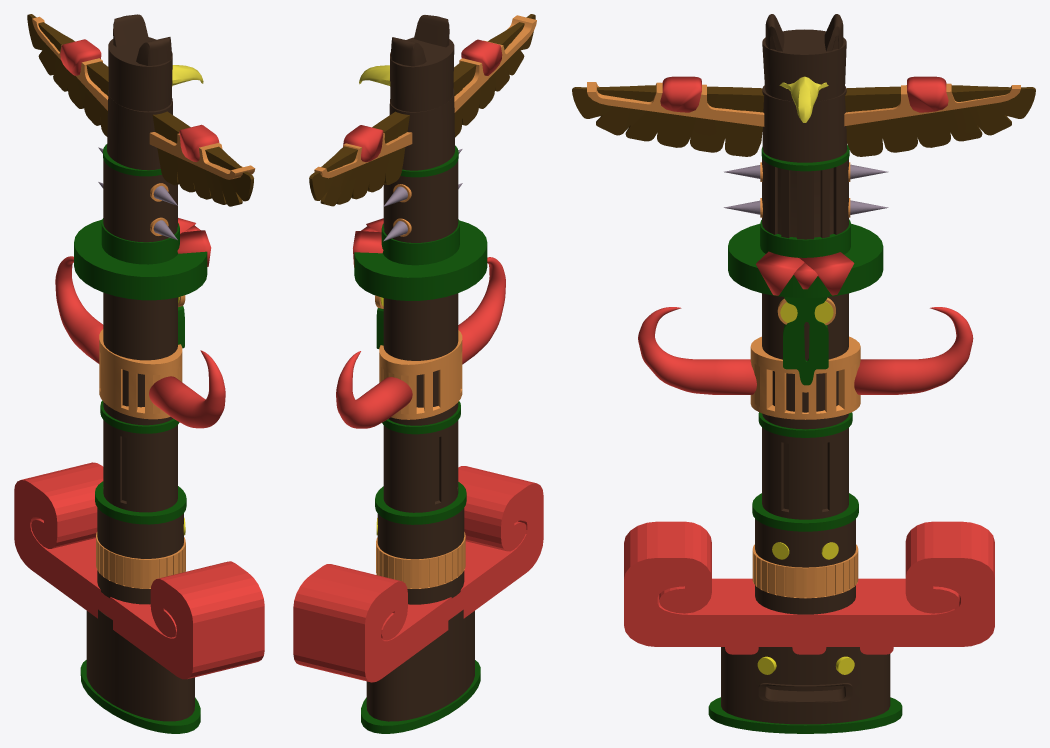
The model's file is tour_totem_lvl_2.fbx.
3 renders of one model, left to right at view 1: azimuth 30°, elevation 25°; view 2: azimuth 150°, elevation 25°; view 3: azimuth 270°, elevation 25°, orthographic. The views are drawn at different scales.
Parts seen in each view (by area): view 1: Cube.022, Cube, Cube.031, Cube.019, Plane.008, Cone, Plane.009; view 2: Cube.022, Cube, Cube.031, Cube.019, Plane.008, Cone, Plane.009; view 3: Cube, Cube.022, Plane.008, Cube.031, Cube.019, Cylinder.008, Cone, Plane.009.
Part boxes in pixels (<box>): Cube.022: <box>86,14,194,721</box>; Cube: <box>14,39,264,679</box>; Cube.031: <box>74,144,207,733</box>; Cube.019: <box>32,16,255,588</box>; Plane.008: <box>27,14,253,206</box>; Cone: <box>98,147,177,240</box>; Plane.009: <box>172,65,203,86</box>; Cube.022: <box>366,15,474,721</box>; Cube: <box>293,39,543,682</box>; Cube.031: <box>354,145,487,733</box>; Cube.019: <box>314,15,536,588</box>; Plane.008: <box>309,14,535,206</box>; Cone: <box>383,149,462,241</box>; Plane.009: <box>359,65,390,86</box>; Cube: <box>624,76,994,654</box>; Cube.022: <box>721,14,890,724</box>; Plane.008: <box>572,85,1035,156</box>; Cube.031: <box>708,145,902,733</box>; Cube.019: <box>587,82,1020,598</box>; Cylinder.008: <box>757,301,854,674</box>; Cone: <box>724,164,888,214</box>; Plane.009: <box>779,76,828,122</box>.
Bounding box in the file's own units: 12.59 × 69.16 × 41.81.
